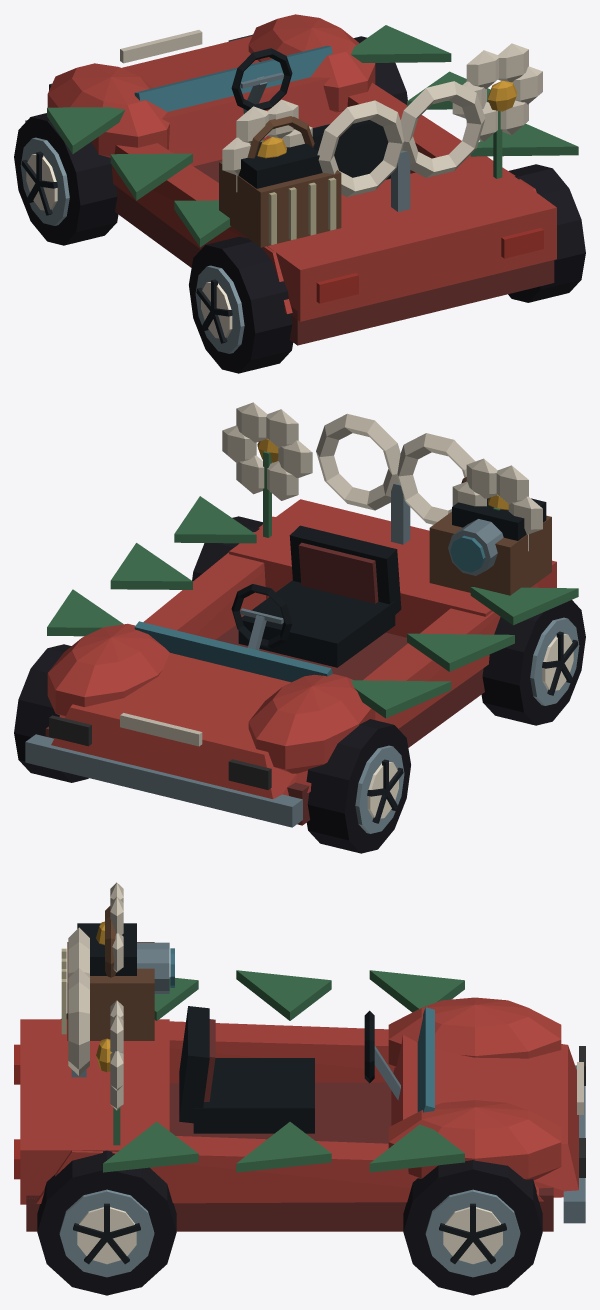
The model's file is kart.glb.
The picture shows the model from 3 angles, top to bottom: view 1: azimuth 30°, elevation 25°; view 2: azimuth 150°, elevation 25°; view 3: azimuth 270°, elevation 25°; orthographic projection. The views are drawn at different scales.
Visible parts, largest first — view 1: identity-toy-car-toy-rounded-body-and-wind-up-key, identity-toy-car-motif-leaves, wheel-rear-left, wheel-front-left, identity-toy-car-motif-flowers, identity-toy-car-motif-basket, identity-toy-car-driver-cockpit, wheel-rear-right, identity-toy-car-motif-camera, wheel-front-right; view 2: identity-toy-car-toy-rounded-body-and-wind-up-key, identity-toy-car-driver-cockpit, identity-toy-car-motif-leaves, wheel-front-left, identity-toy-car-motif-flowers, wheel-rear-left, identity-toy-car-motif-basket, identity-toy-car-motif-camera, wheel-front-right, wheel-rear-right; view 3: identity-toy-car-toy-rounded-body-and-wind-up-key, wheel-rear-right, wheel-front-right, identity-toy-car-motif-leaves, identity-toy-car-driver-cockpit, identity-toy-car-motif-basket, identity-toy-car-motif-flowers, identity-toy-car-motif-camera.
Part boxes in pixels (bbox=[...]): identity-toy-car-toy-rounded-body-and-wind-up-key: bbox=[25, 14, 556, 345]; identity-toy-car-motif-leaves: bbox=[47, 25, 578, 247]; wheel-rear-left: bbox=[189, 236, 293, 373]; wheel-front-left: bbox=[14, 113, 118, 245]; identity-toy-car-motif-flowers: bbox=[222, 43, 542, 192]; identity-toy-car-motif-basket: bbox=[219, 116, 341, 247]; identity-toy-car-driver-cockpit: bbox=[231, 48, 390, 179]; wheel-rear-right: bbox=[508, 164, 585, 302]; identity-toy-car-motif-camera: bbox=[238, 140, 322, 188]; wheel-front-right: bbox=[353, 36, 407, 104]; identity-toy-car-toy-rounded-body-and-wind-up-key: bbox=[25, 413, 556, 827]; identity-toy-car-driver-cockpit: bbox=[231, 525, 401, 667]; identity-toy-car-motif-leaves: bbox=[47, 496, 578, 718]; wheel-front-left: bbox=[306, 719, 410, 853]; identity-toy-car-motif-flowers: bbox=[222, 402, 542, 551]; wheel-rear-left: bbox=[481, 600, 585, 725]; identity-toy-car-motif-basket: bbox=[429, 477, 551, 595]; identity-toy-car-motif-camera: bbox=[448, 498, 546, 575]; wheel-front-right: bbox=[14, 644, 88, 782]; wheel-rear-right: bbox=[192, 516, 262, 580]; identity-toy-car-toy-rounded-body-and-wind-up-key: bbox=[14, 927, 585, 1231]; wheel-rear-right: bbox=[37, 1150, 176, 1295]; wheel-front-right: bbox=[403, 1160, 542, 1295]; identity-toy-car-motif-leaves: bbox=[103, 970, 464, 1172]; identity-toy-car-driver-cockpit: bbox=[179, 1006, 400, 1133]; identity-toy-car-motif-basket: bbox=[61, 906, 154, 1040]; identity-toy-car-motif-flowers: bbox=[96, 882, 123, 1145]; identity-toy-car-motif-camera: bbox=[77, 923, 174, 993].
Size of the model in its own units: 2.3 by 1.46 by 2.88.
